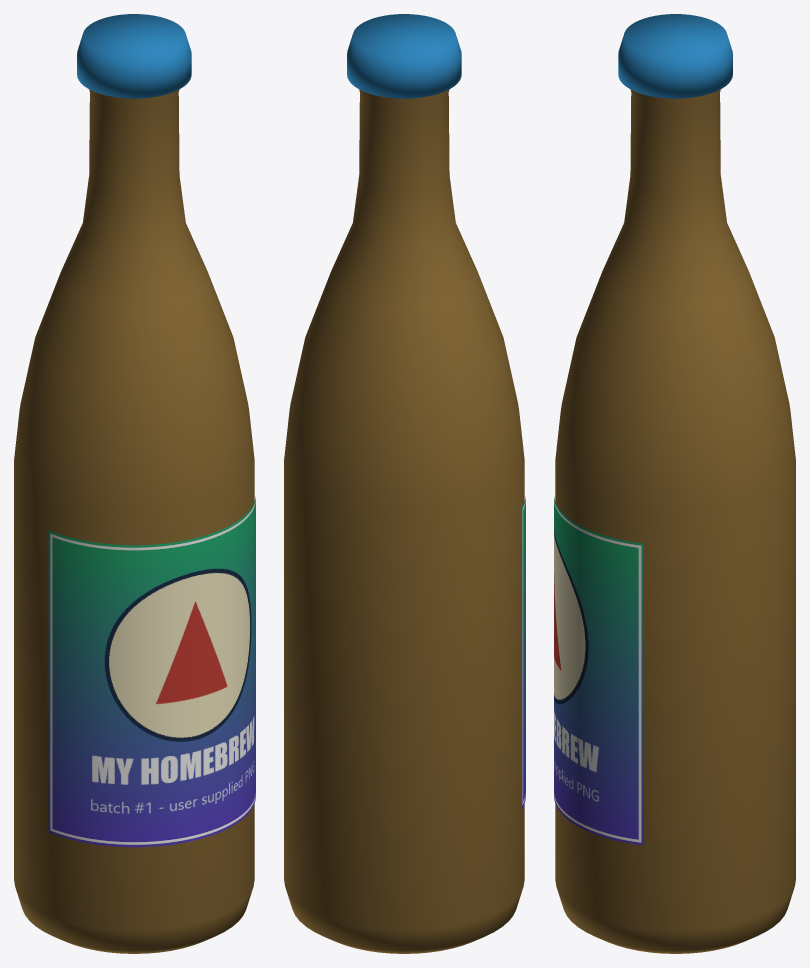
Rendered from beer_userimg.glb.
3 views of the same model, side by side, from view 1: azimuth 30°, elevation 25°; view 2: azimuth 150°, elevation 25°; view 3: azimuth 270°, elevation 25° (orthographic).
Parts seen in each view (by area): view 1: Glass, Label_front, Cap; view 2: Glass, Cap, Label_front; view 3: Glass, Label_front, Cap.
Boxes of the visible parts, x1,y1,x2,y2 form: Glass: (14, 89, 254, 953); Label_front: (48, 496, 255, 847); Cap: (77, 14, 191, 98); Glass: (284, 89, 524, 953); Cap: (347, 14, 461, 98); Label_front: (522, 496, 525, 808); Glass: (555, 89, 795, 953); Label_front: (554, 496, 643, 845); Cap: (618, 14, 732, 98).
Size of the model in its own units: 0.065 by 0.2615 by 0.0653.
Materials: 4 (1 with a texture image).
